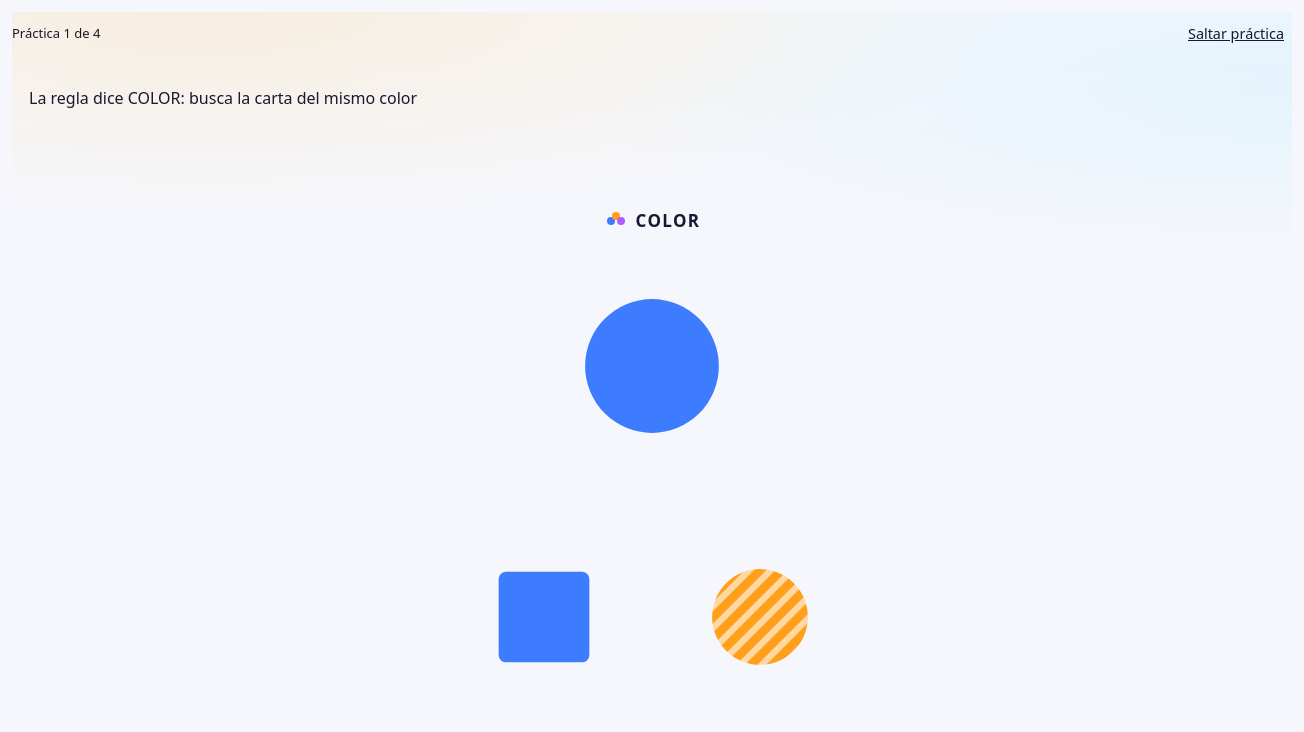
choosing left, right, left, right completes once
Expected: the text "Práctica 1 de 4" is shown, [12,24,100,44]
Click the button with test id "target-left": (544, 617) [469,542,619,692]
Wait 700 ms
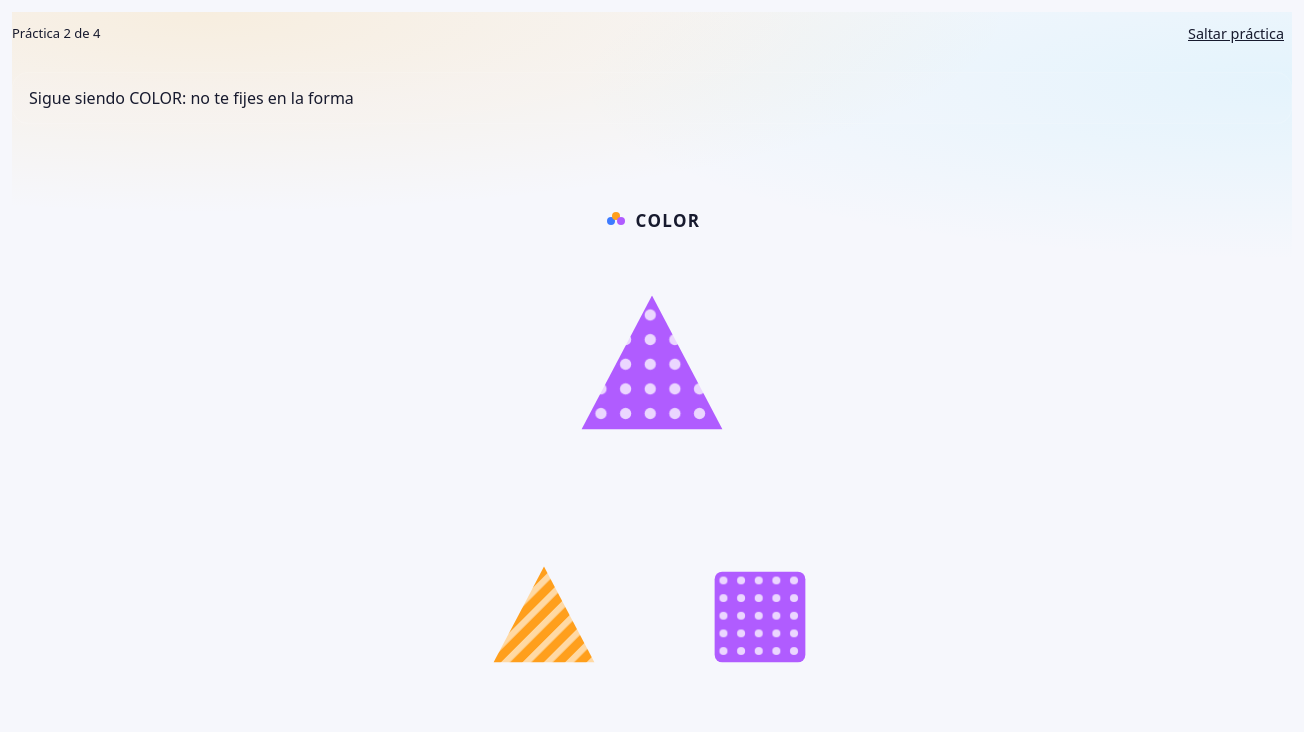
Expected: the text "¡Bien!" is shown, [12,72,1292,124]
Click the button with test id "target-right": (760, 617) [685,542,835,692]
Wait 700 ms
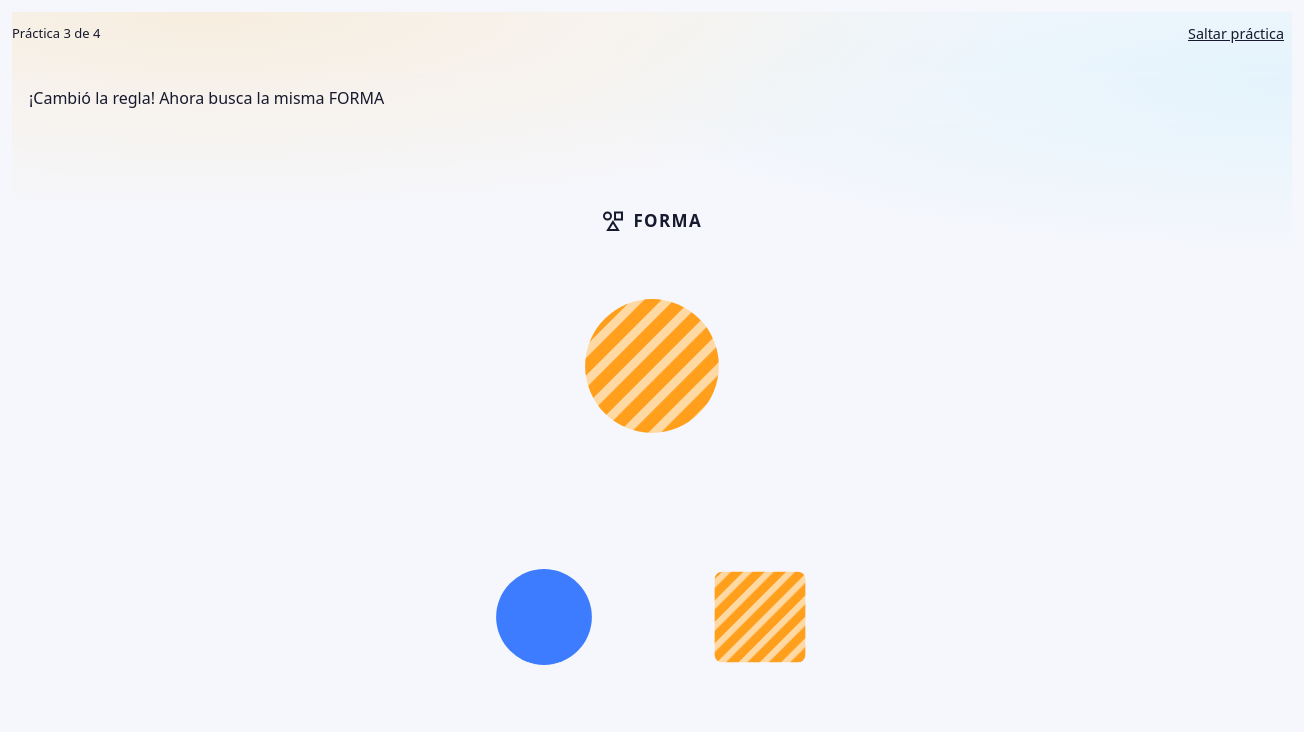
Expected: the text "¡Bien!" is shown, [12,72,1292,124]
Expected: the text "Práctica 3 de 4" is shown, [12,24,100,44]
Click the button with test id "target-left": (544, 617) [469,542,619,692]
Wait 700 ms
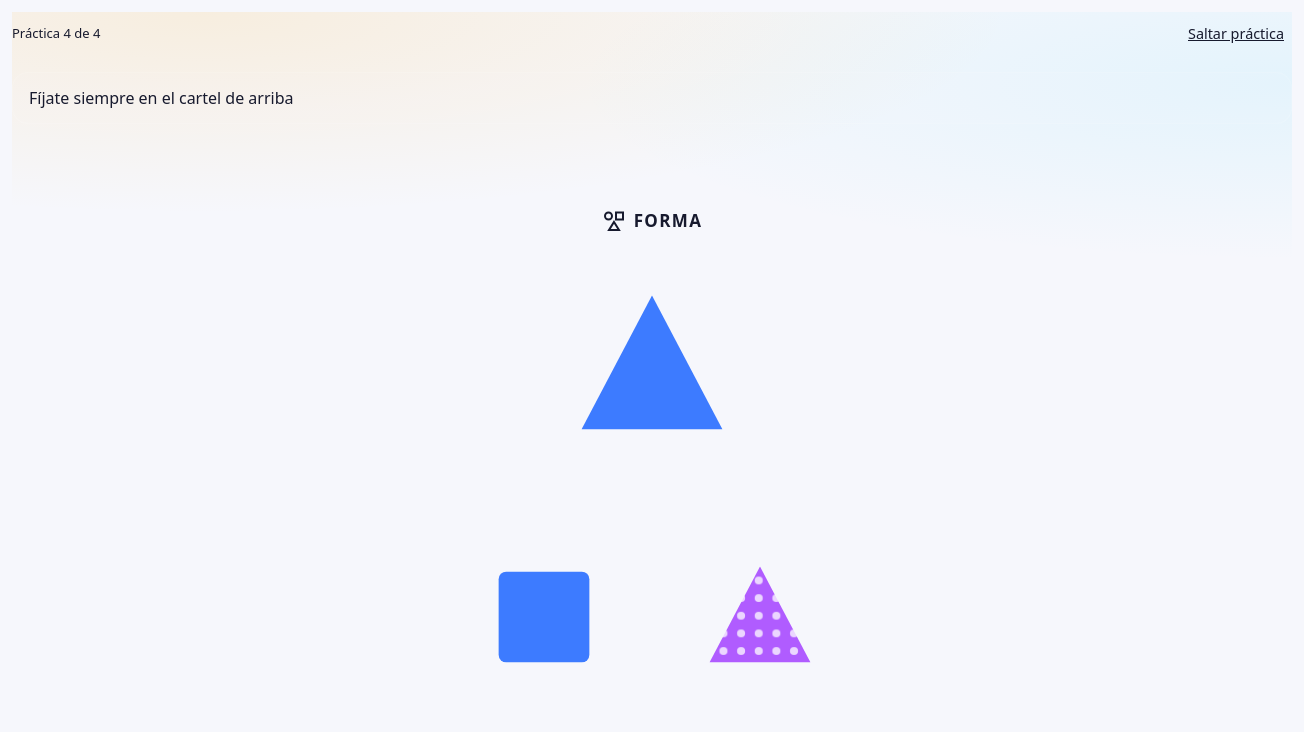
Expected: the text "¡Bien!" is shown, [12,72,1292,124]
Click the button with test id "target-right": (760, 617) [685,542,835,692]
Wait 700 ms
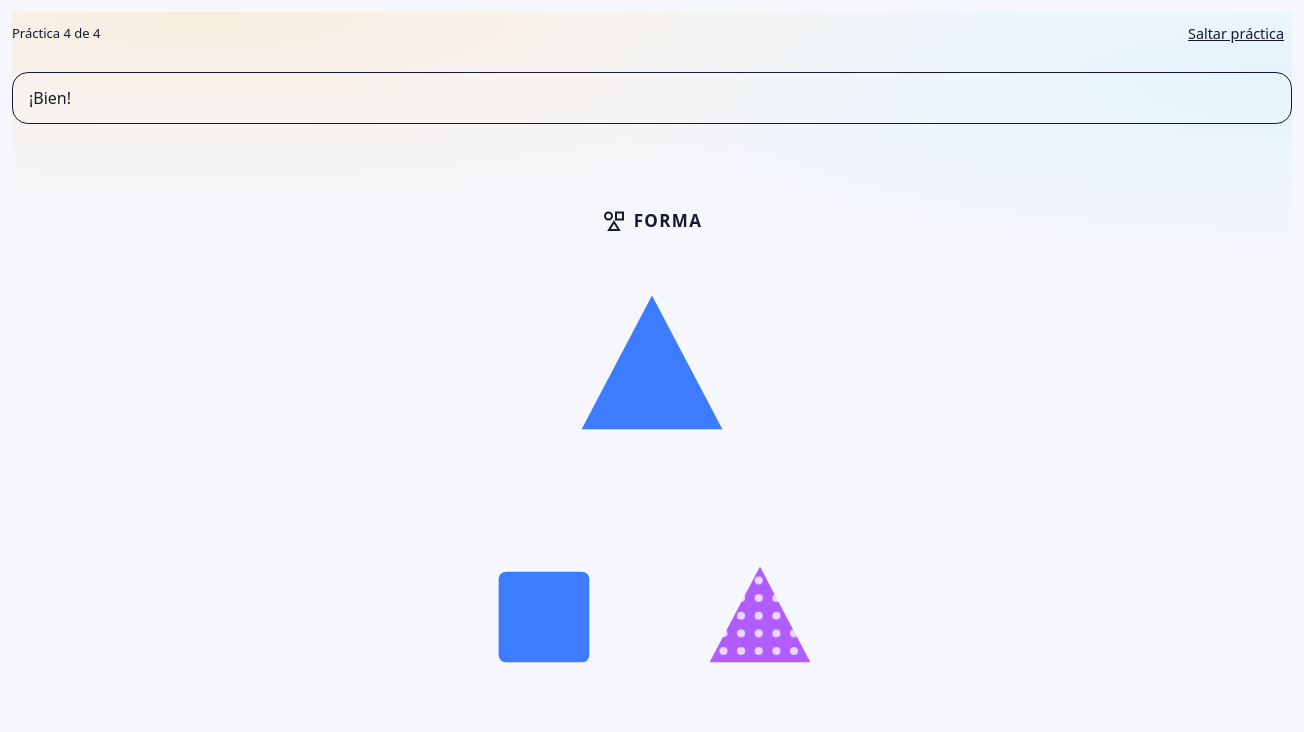
Expected: the text "¡Bien!" is shown, [12,72,1292,124]
